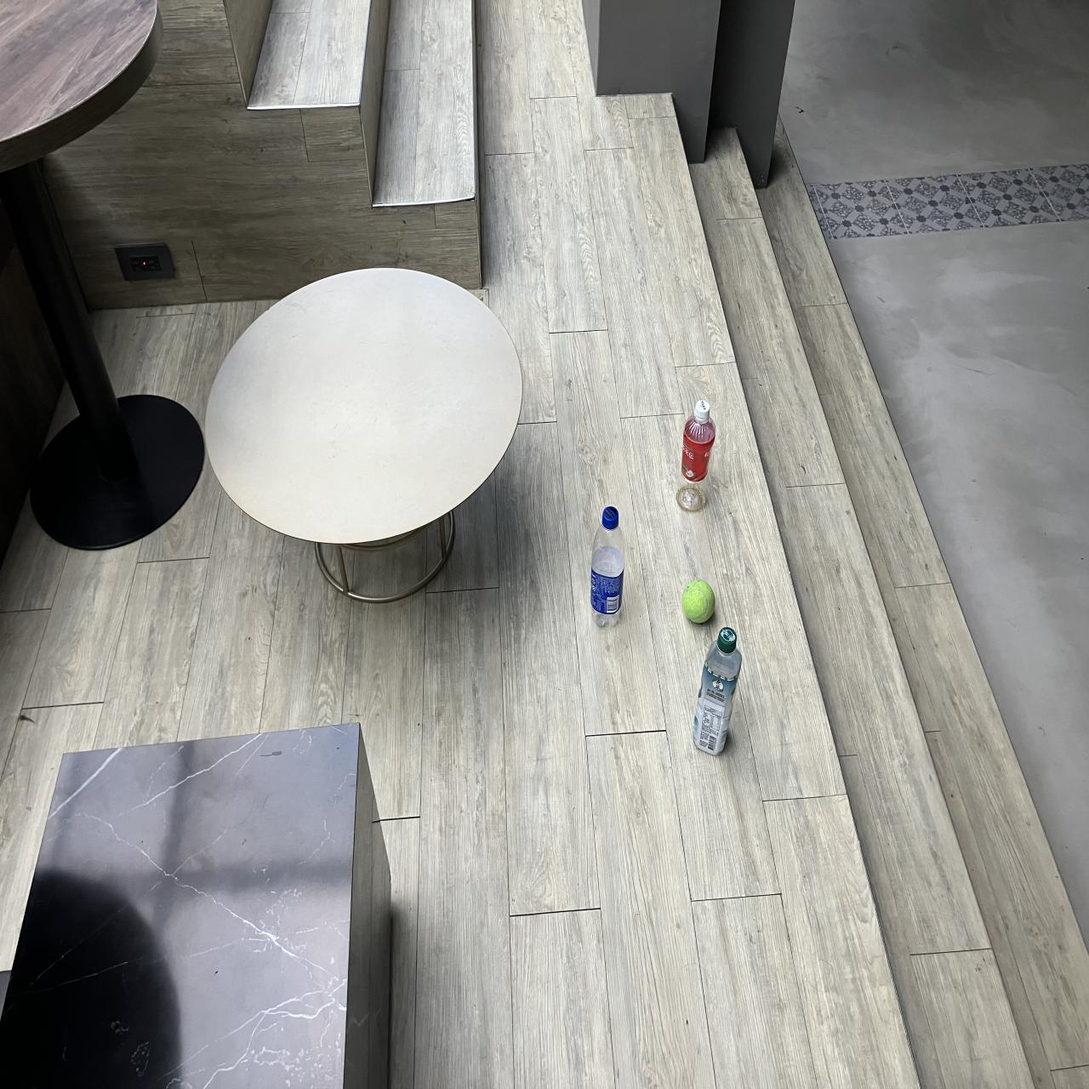plastic-bottle: (693, 628, 741, 755), (677, 400, 716, 511), (591, 506, 624, 626)
tennisball: (682, 580, 715, 623)
